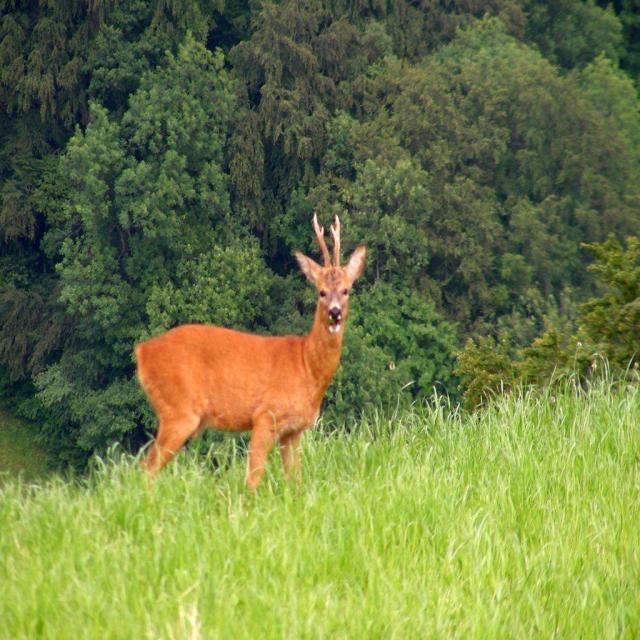Deer: (137, 214, 365, 488)
